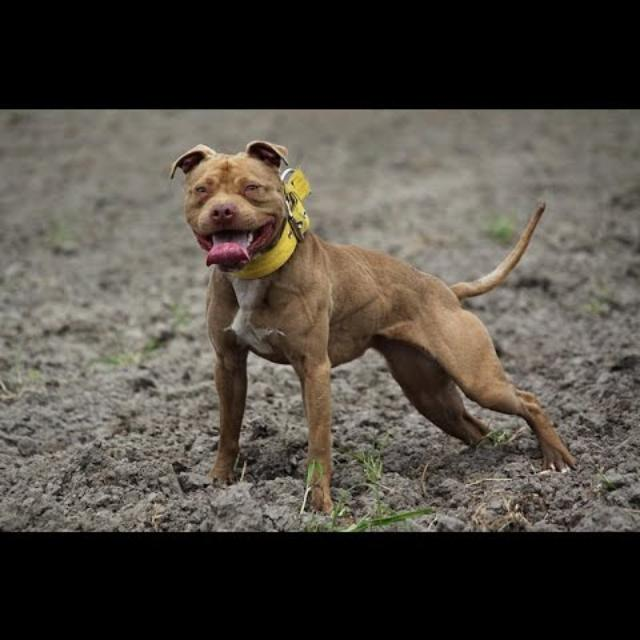am_pit_bull_terrier: (170, 140, 579, 516)
